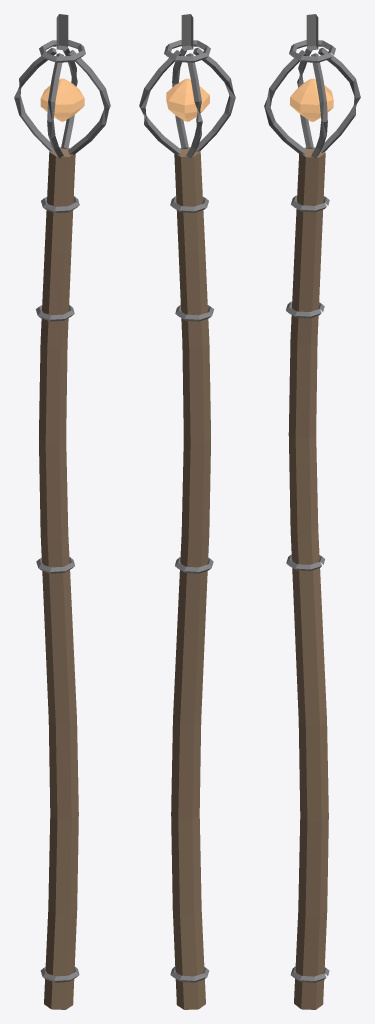
Rendered from firestaff.glb.
3 views of the same model, side by side, from view 1: azimuth 30°, elevation 25°; view 2: azimuth 150°, elevation 25°; view 3: azimuth 330°, elevation 25° (orthographic).
Parts seen in each view (by area): view 1: wood, metal, glow; view 2: wood, metal, glow; view 3: wood, metal, glow.
Part boxes in pixels (left/top/right/bottom): wood: left=39, top=147, right=78, bottom=1009; metal: left=14, top=14, right=110, bottom=982; glow: left=40, top=78, right=84, bottom=121; wood: left=171, top=147, right=210, bottom=1009; metal: left=139, top=14, right=235, bottom=982; glow: left=166, top=78, right=209, bottom=121; wood: left=288, top=147, right=328, bottom=1009; metal: left=264, top=14, right=360, bottom=982; glow: left=290, top=78, right=333, bottom=121.
Size of the model in its own units: 0.1058 by 1.57 by 0.1058.
